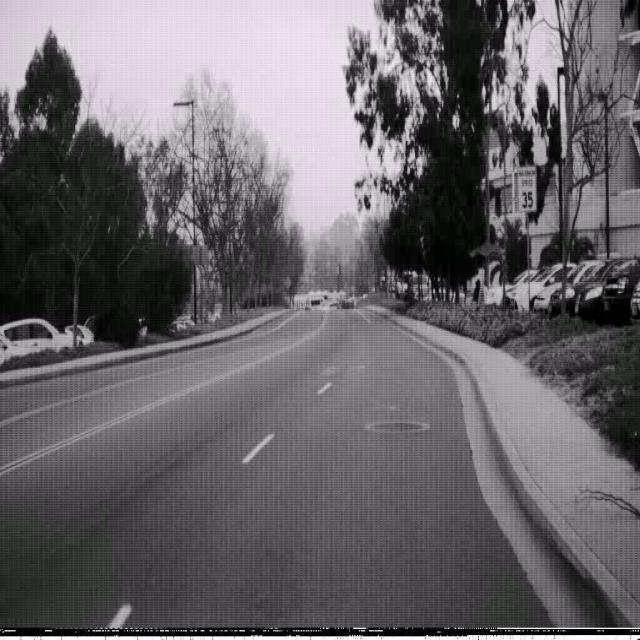speedLimit35: (516, 163, 538, 213)
